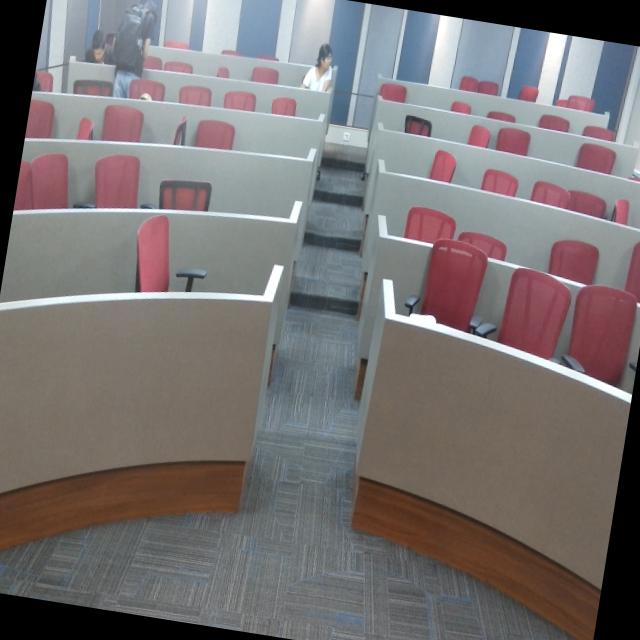cheating: (300, 25, 346, 103)
